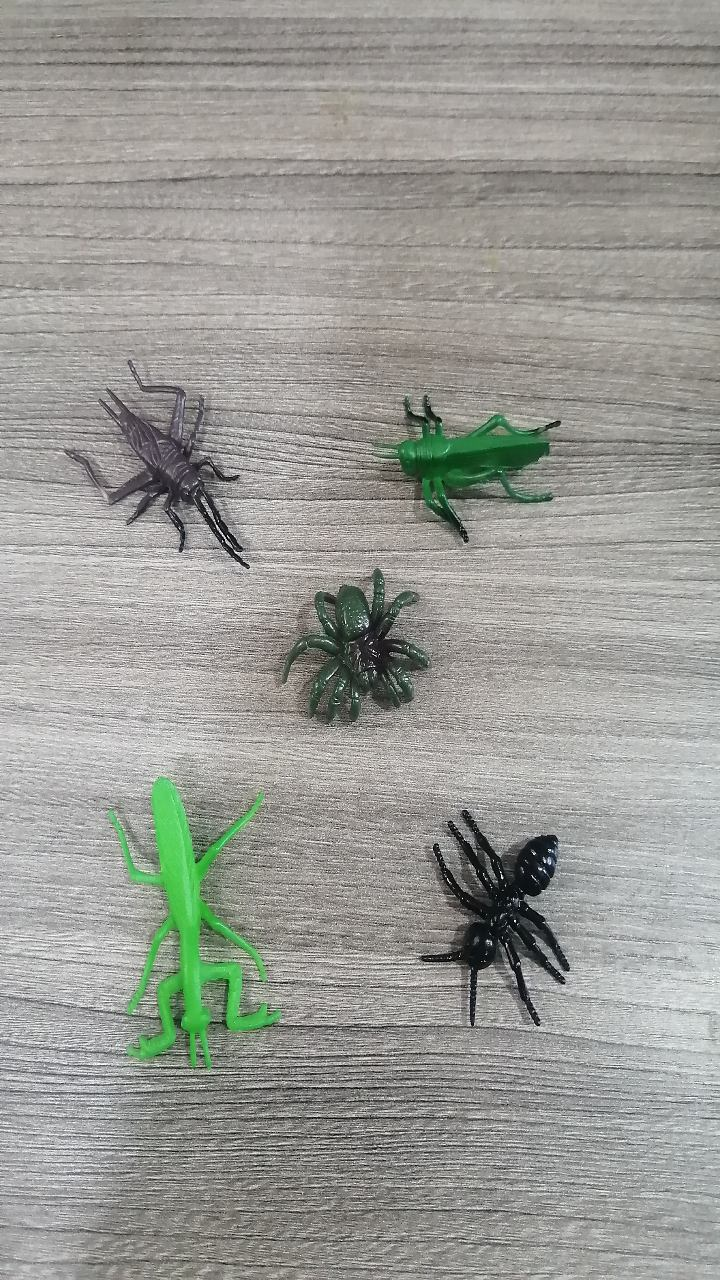intruso: (68, 752, 308, 1071), (398, 772, 623, 1045), (44, 342, 268, 615), (357, 345, 591, 557), (269, 535, 457, 755)
